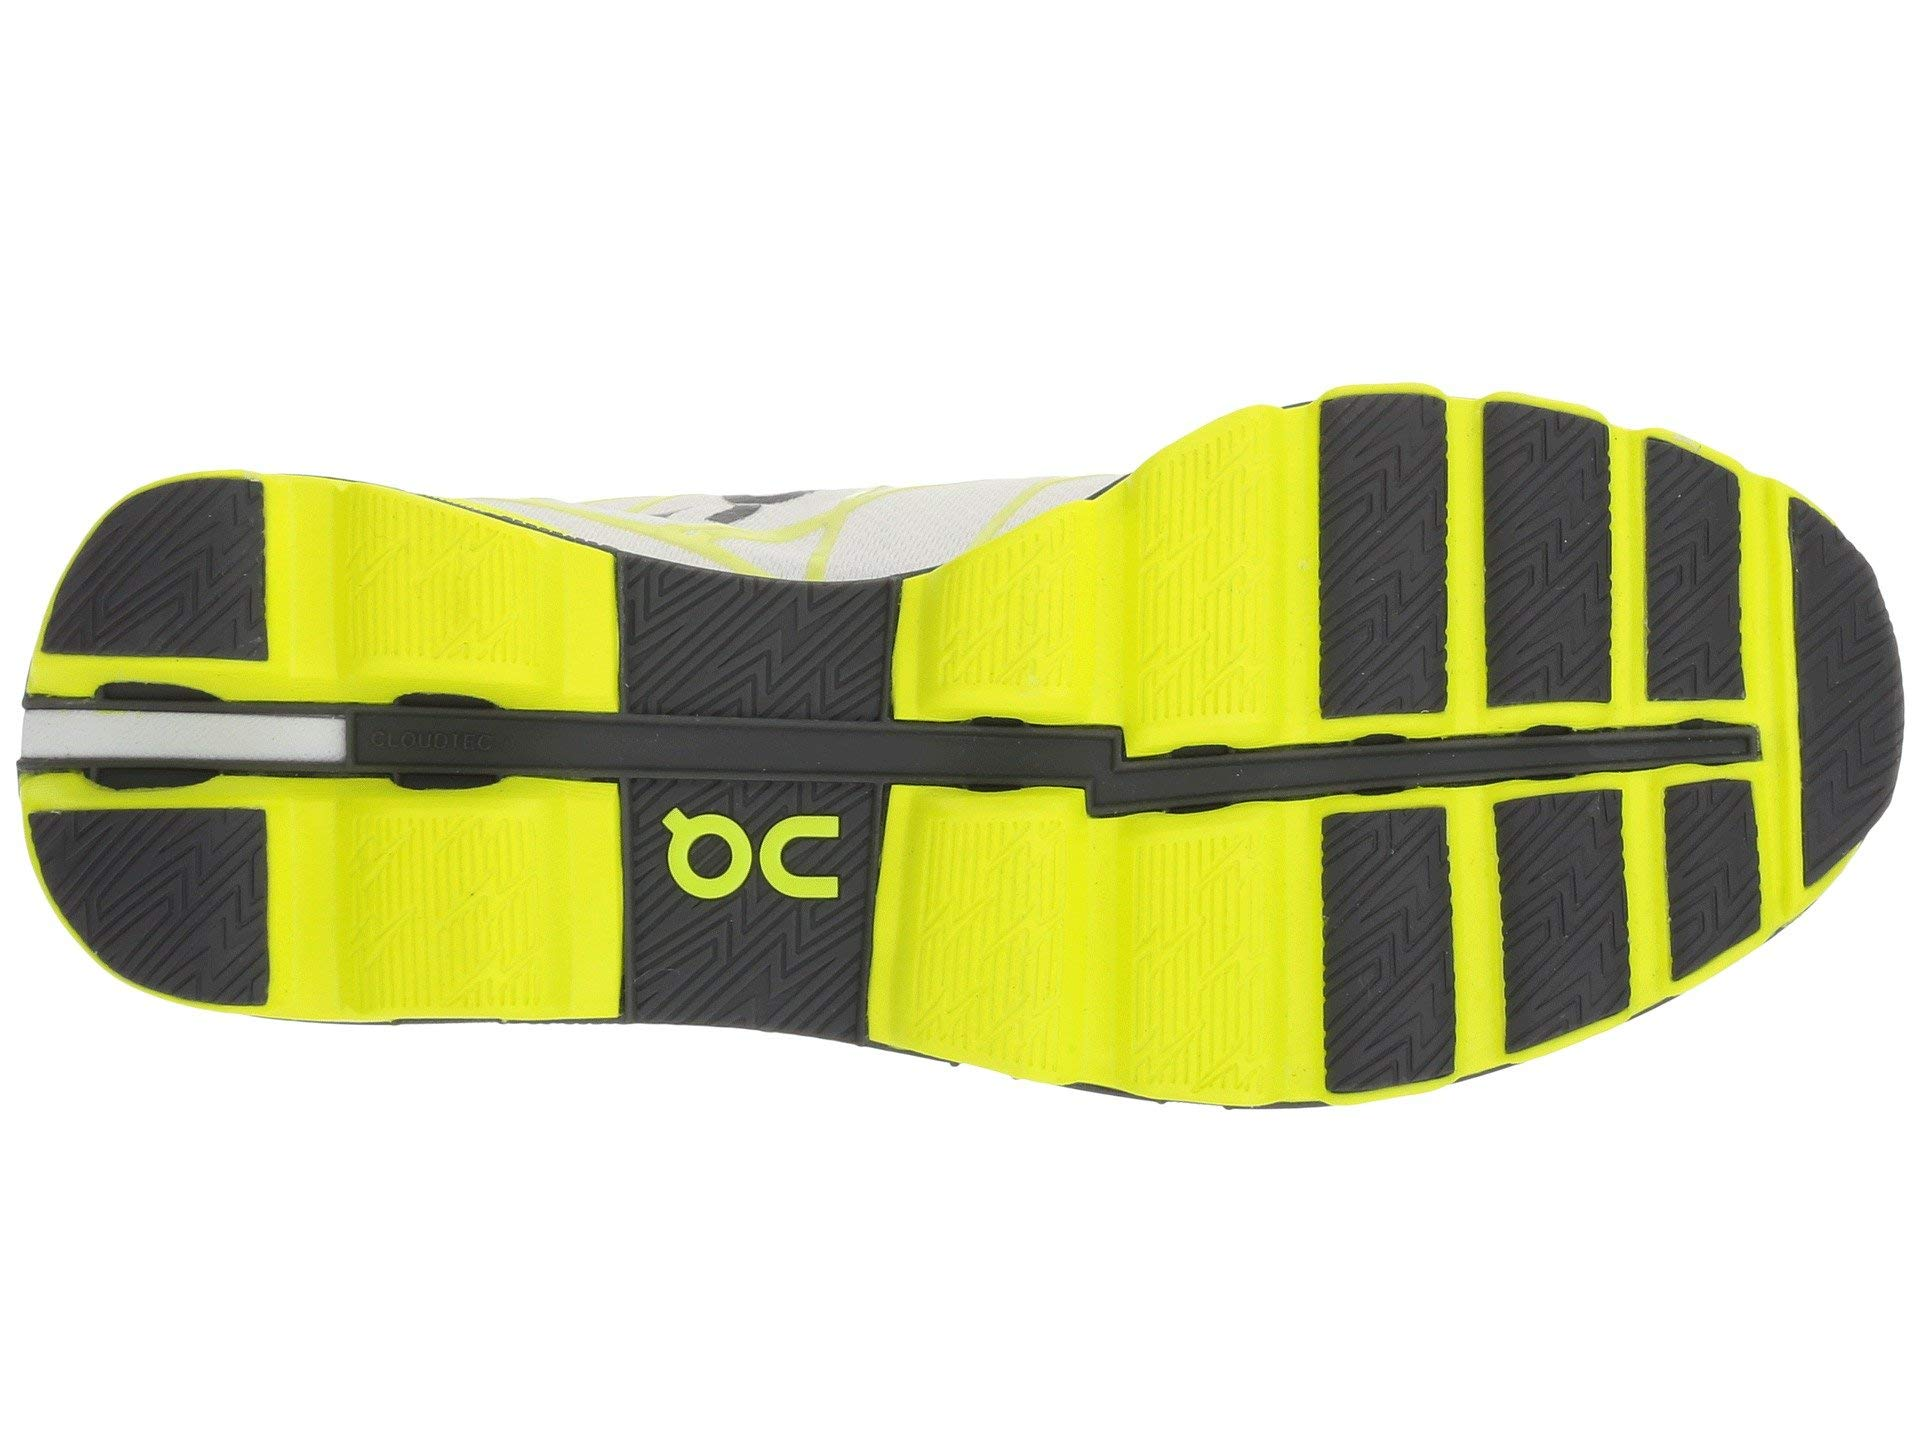chevron: (26, 805, 271, 1013), (342, 799, 562, 1023)
circle: (653, 799, 850, 908)
line: (26, 805, 271, 1013), (342, 799, 562, 1023)
quad: (14, 705, 352, 773)
text: (653, 799, 850, 908), (363, 722, 497, 762)
